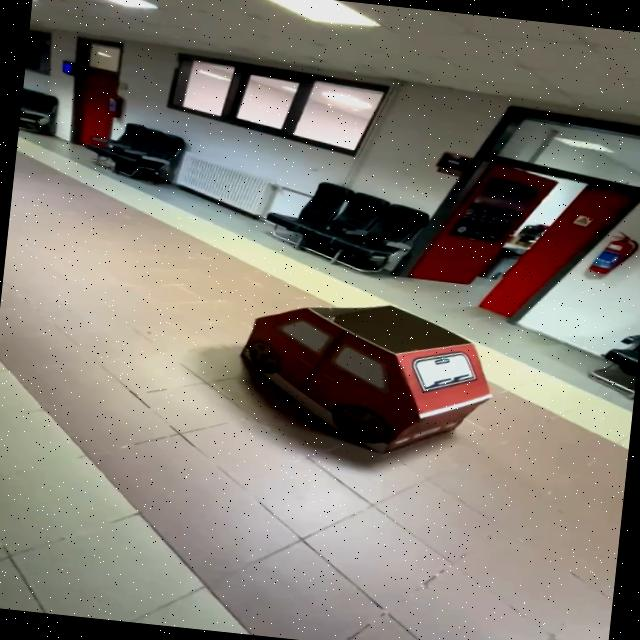red_car: (223, 282, 507, 470)
